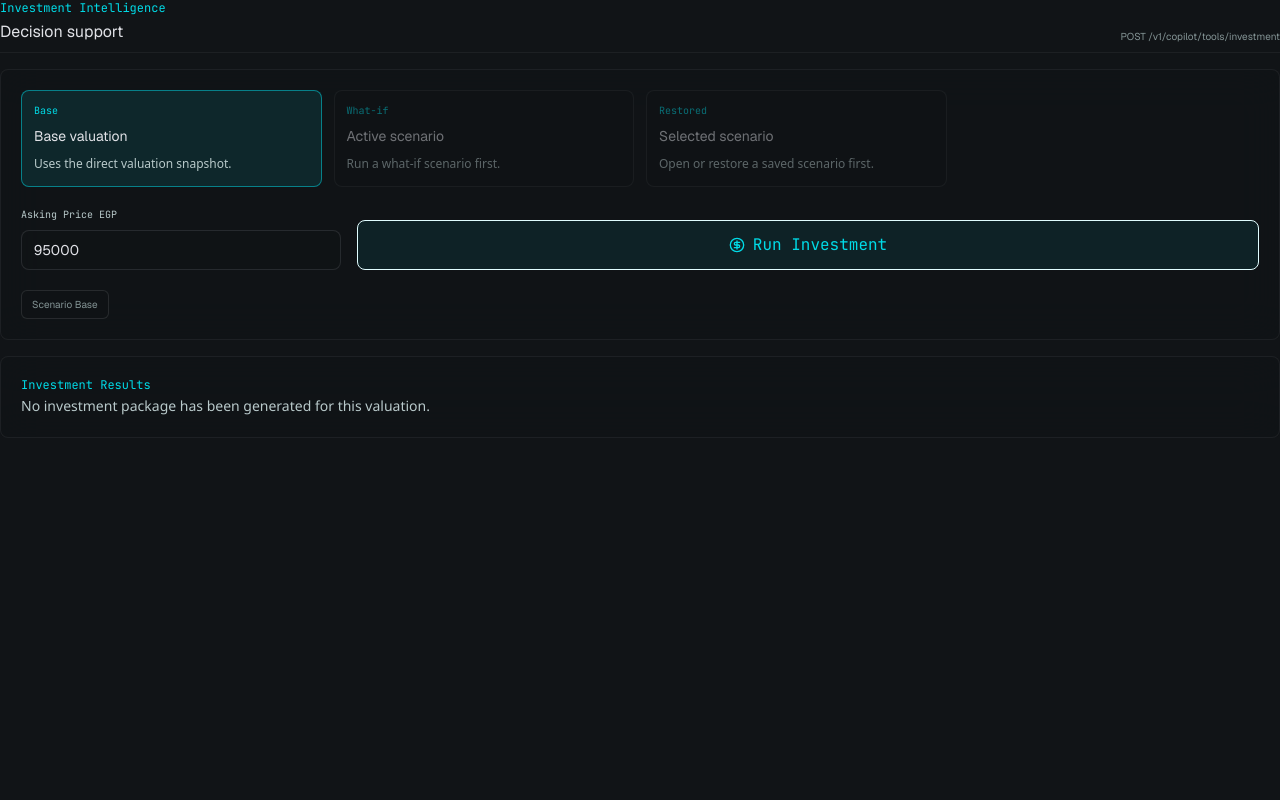
Test case: InvestmentIntelligencePanel › renders sparse investment responses without fabricating missing evidence
This screenshot has width=1280, height=800.
What coordinates should you click on to do the following:
click the button "Run Investment"
I would click on:
 (808, 245)
Its box is [357, 220, 1259, 270].
(page scrolled)
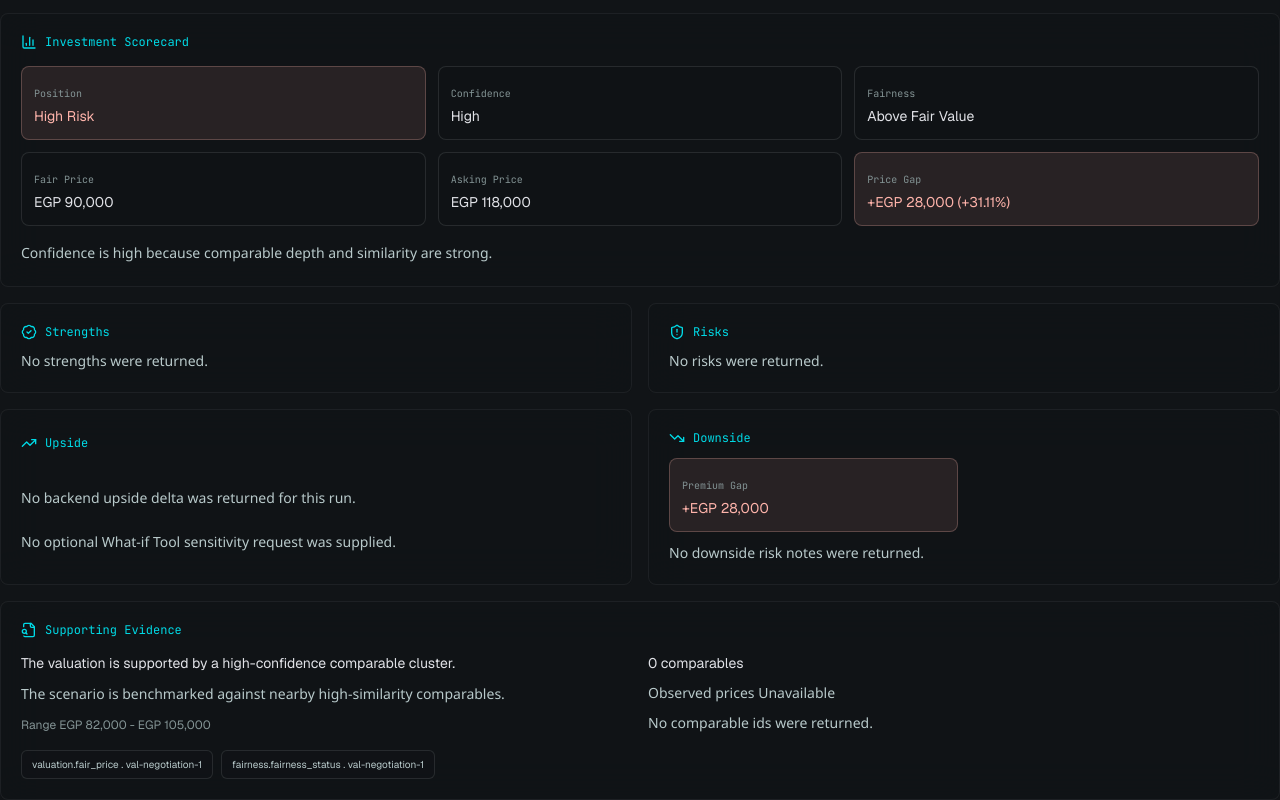
Result: the text "No strengths were returned." is shown at [21, 352, 208, 371]
Result: the text "No risks were returned." is shown at [669, 352, 823, 371]
Result: the text "No comparable ids were returned." is shown at [648, 714, 873, 734]
